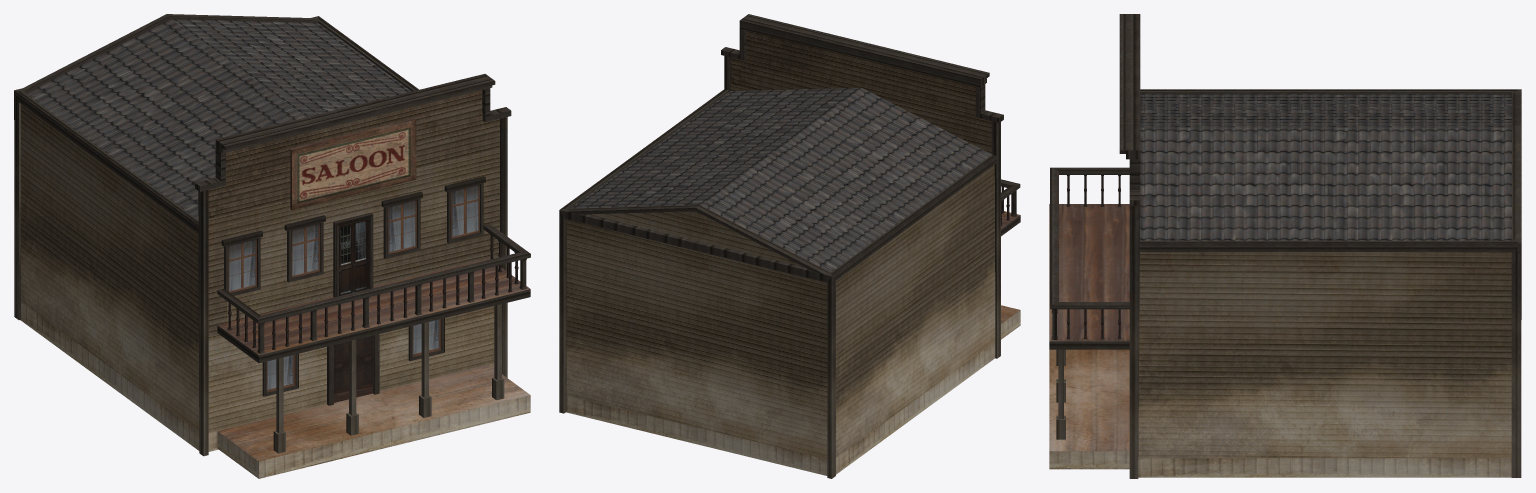
Rendered from Saloon.fbx.
3 views of the same model, side by side, from view 1: azimuth 30°, elevation 25°; view 2: azimuth 150°, elevation 25°; view 3: azimuth 270°, elevation 25° (orthographic). The views are drawn at different scales.
Visible parts, largest first — view 1: Saloon; view 2: Saloon; view 3: Saloon.
Boxes of the visible parts, x1,y1,x2,y2 form: Saloon: (14,14,530,478); Saloon: (559,14,1020,478); Saloon: (1049,14,1521,478).
Bounding box in the file's own units: 7.8 × 7.4 × 9.9.
Materials: 1 (1 with a texture image).
